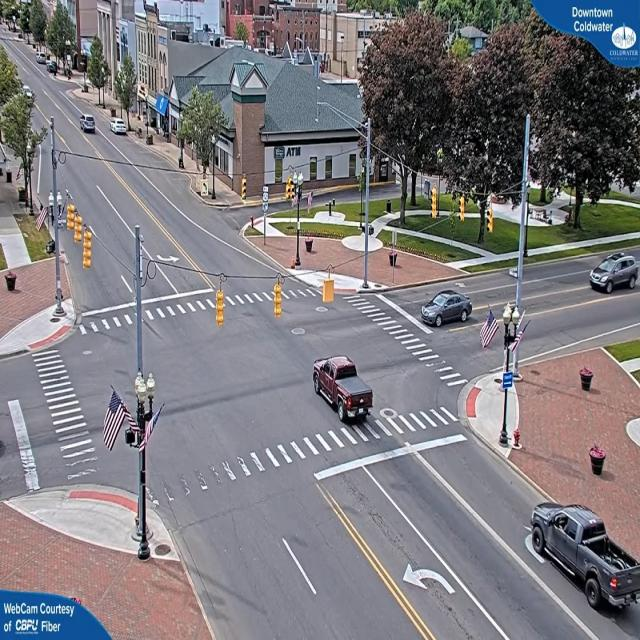car: (532, 494, 634, 597), (312, 356, 374, 426), (588, 252, 640, 295), (420, 290, 472, 328), (111, 120, 129, 138), (80, 115, 97, 133)
